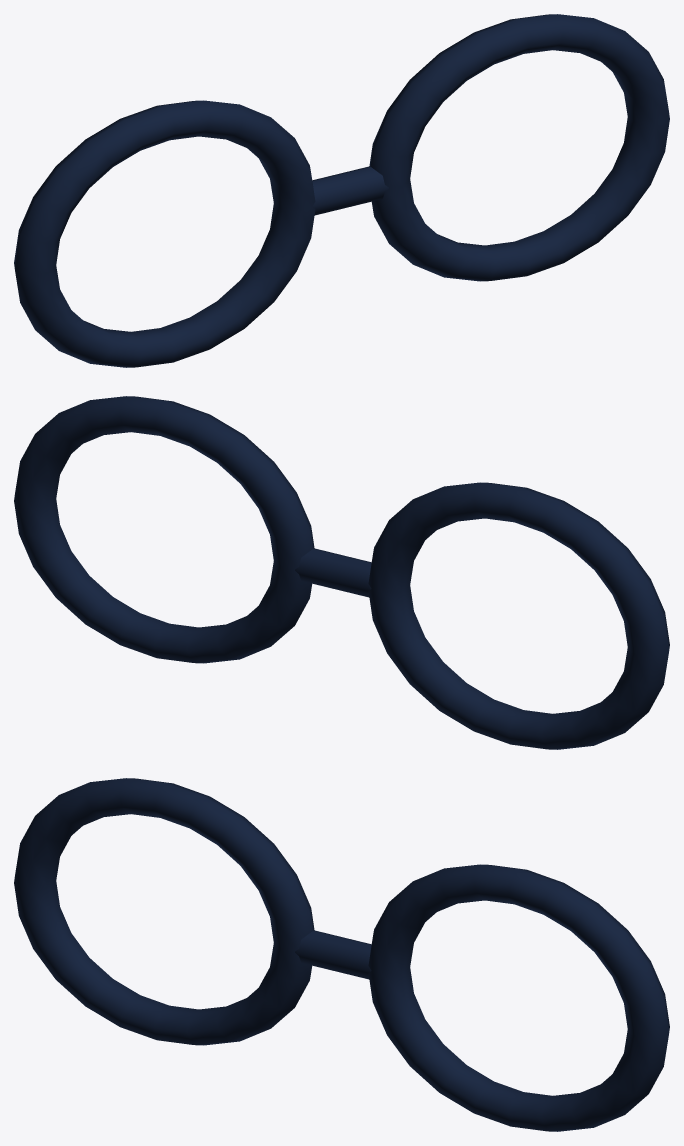
3 renders of one model, top to bottom at view 1: azimuth 30°, elevation 25°; view 2: azimuth 150°, elevation 25°; view 3: azimuth 330°, elevation 25°, orthographic.
Visible parts, largest first — view 1: eyewear.sport-frames.lens-l, eyewear.sport-frames.lens-r, eyewear.sport-frames.bridge; view 2: eyewear.sport-frames.lens-l, eyewear.sport-frames.lens-r, eyewear.sport-frames.bridge; view 3: eyewear.sport-frames.lens-r, eyewear.sport-frames.lens-l, eyewear.sport-frames.bridge.
Part boxes in pixels (box(x1,y1,x2,y2)): eyewear.sport-frames.lens-l: box(14, 100, 315, 367); eyewear.sport-frames.lens-r: box(369, 14, 669, 281); eyewear.sport-frames.bridge: box(312, 166, 388, 215); eyewear.sport-frames.lens-l: box(368, 482, 669, 749); eyewear.sport-frames.lens-r: box(14, 396, 314, 663); eyewear.sport-frames.bridge: box(295, 548, 371, 597); eyewear.sport-frames.lens-r: box(368, 864, 669, 1131); eyewear.sport-frames.lens-l: box(14, 778, 314, 1045); eyewear.sport-frames.bridge: box(295, 930, 371, 979).
Size of the model in its own units: 0.4989 by 0.1875 by 0.0273.
